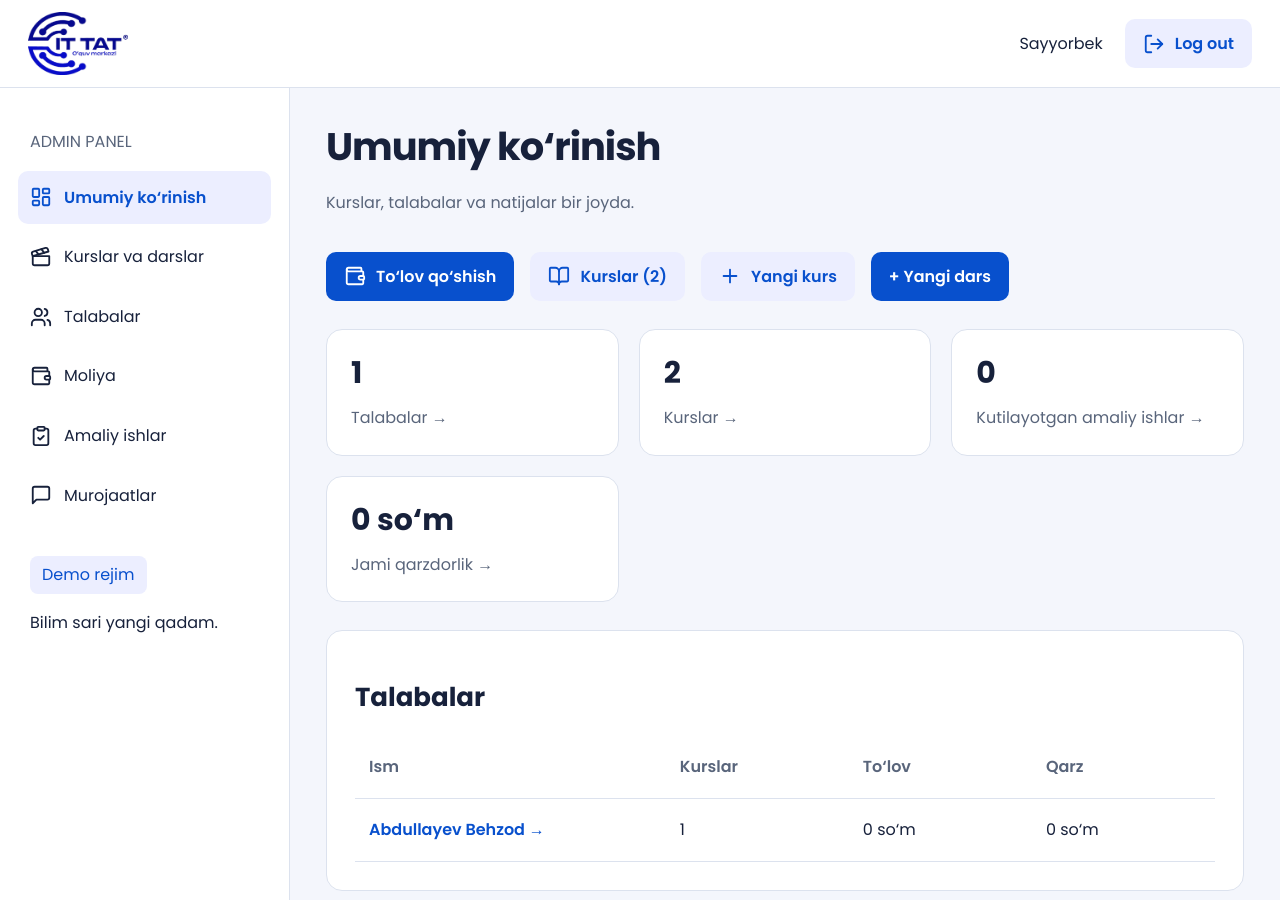
Test: admin logout uses same confirmation
Click the button "Log out" at (1188, 44), box [1125, 19, 1252, 68]
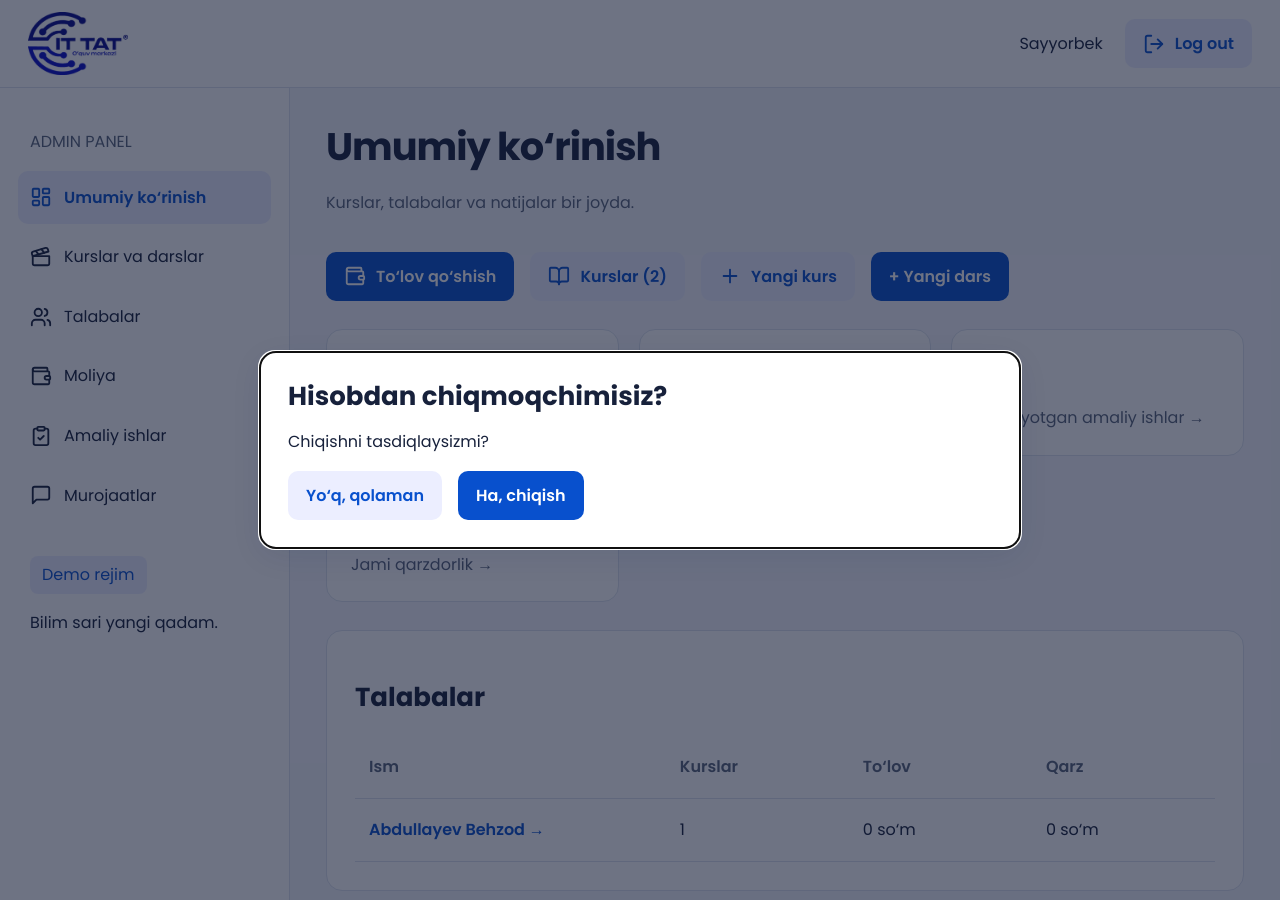
Expected: the text "Hisobdan chiqmoqchimisiz?" is shown, [288, 380, 667, 413]
